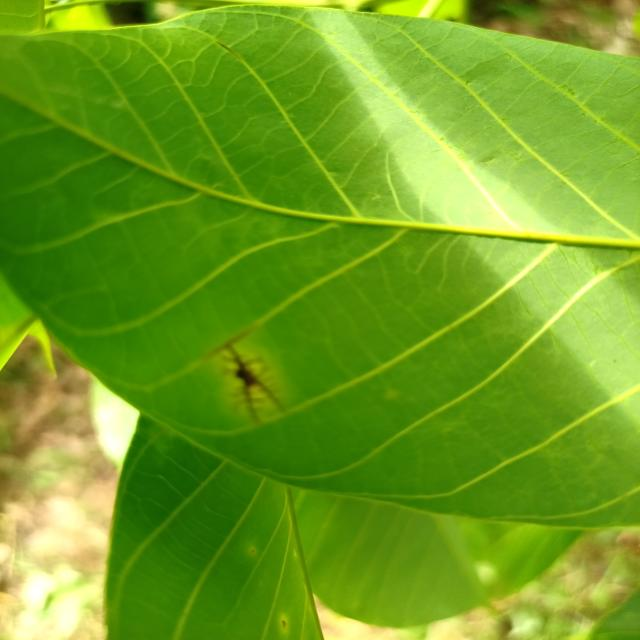Corynespora: (209, 330, 284, 421)
